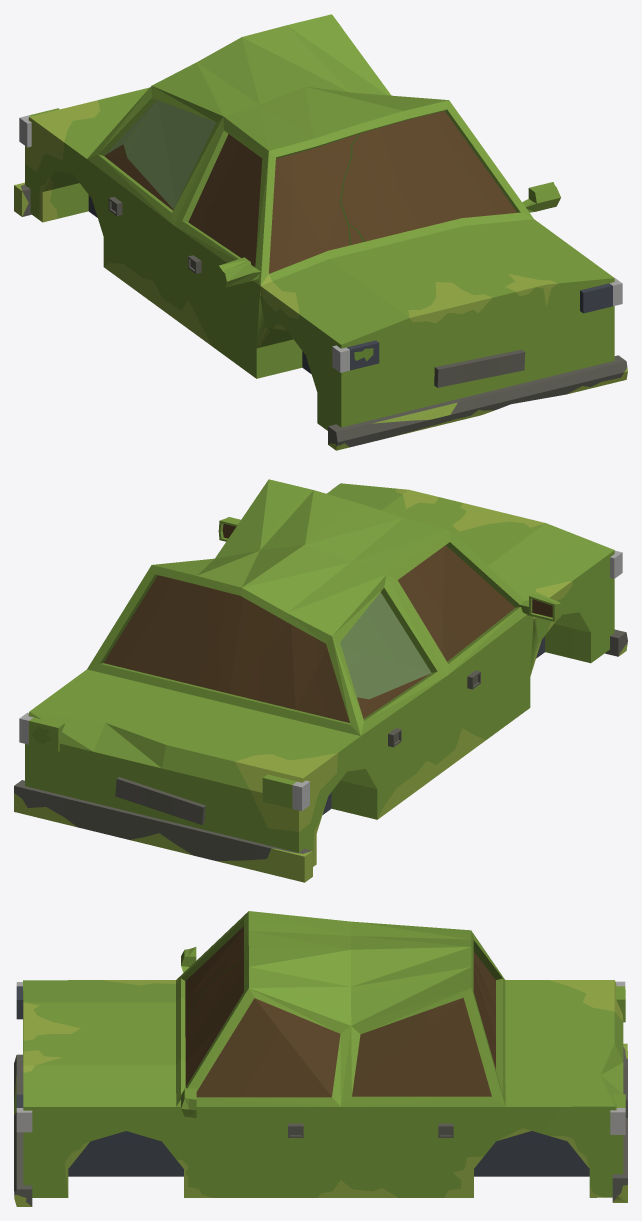
The model's file is OldCar_02.fbx.
3 views of the same model, one above another, from view 1: azimuth 30°, elevation 25°; view 2: azimuth 150°, elevation 25°; view 3: azimuth 270°, elevation 25° (orthographic). The views are drawn at different scales.
Parts seen in each view (by area): view 1: OldCar_02; view 2: OldCar_02; view 3: OldCar_02.
Part boxes in pixels (x1,y1,x2,y2): OldCar_02: (14,14,627,450); OldCar_02: (14,479,627,882); OldCar_02: (14,911,627,1206).
Size of the model in its own units: 1.96 by 1.14 by 3.26.
